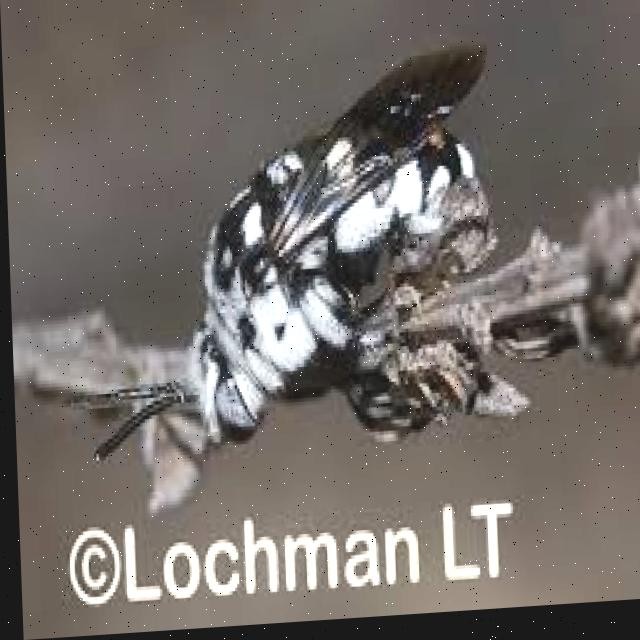Thyreus: (105, 32, 522, 499)
